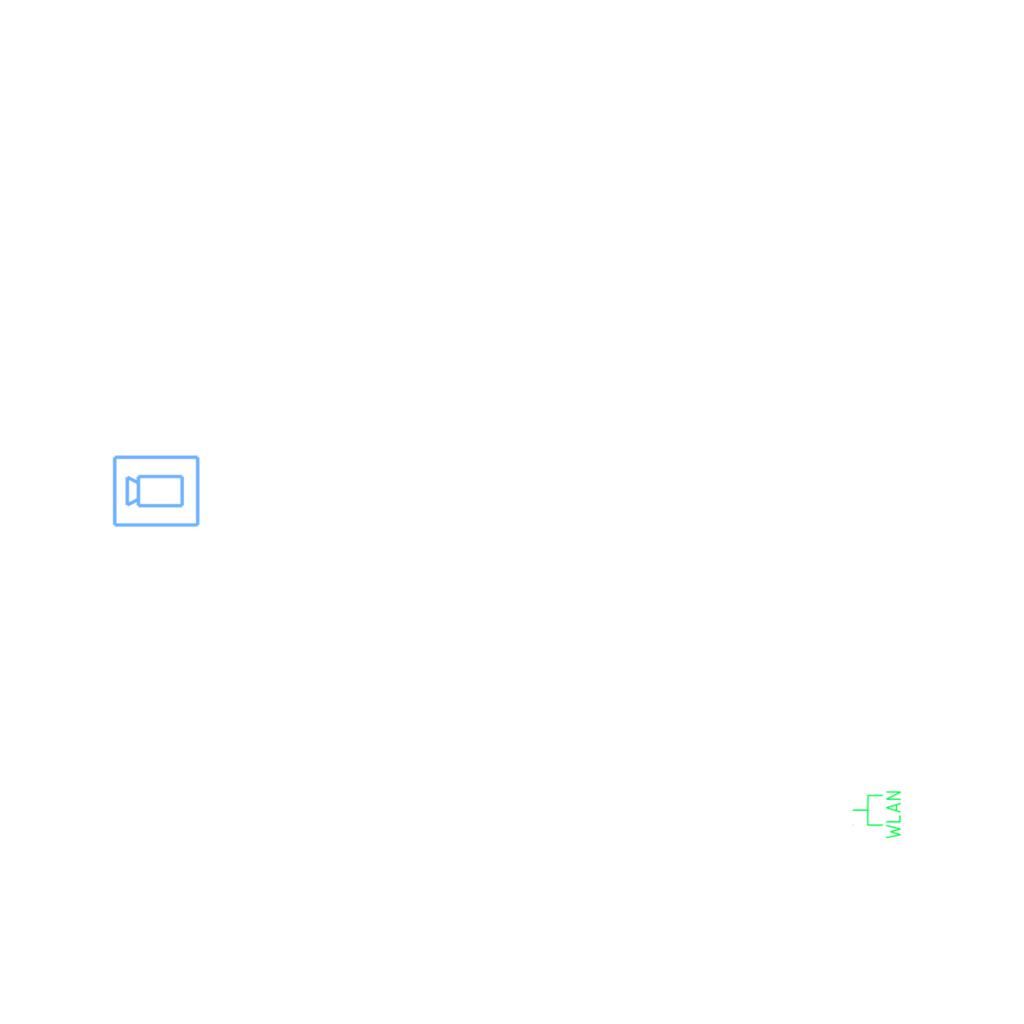KFO_Kamera_mit_Festobjektiv: (111, 452, 202, 529)
WLAN: (851, 789, 903, 841)
